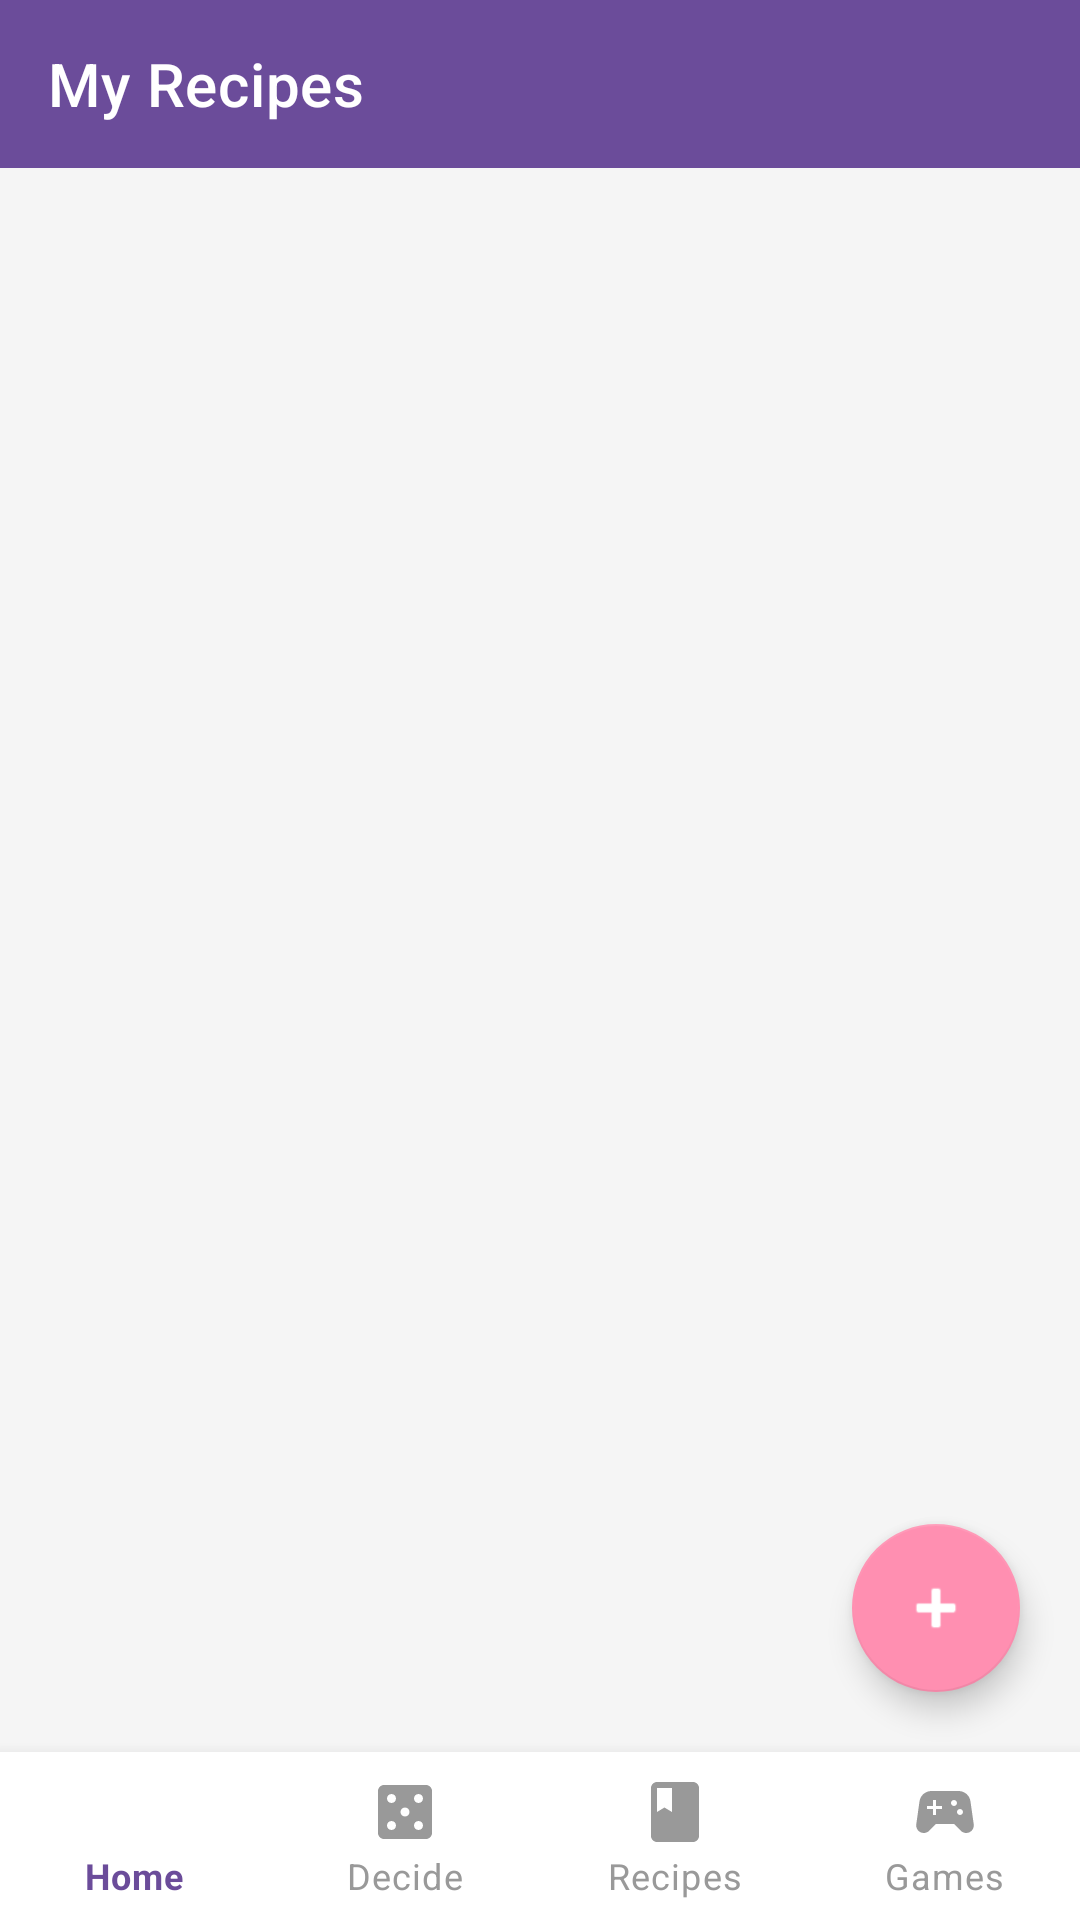

Locate icon controls on the screen. Image size 1080 x 1920, boxes as BBox(x1, y1, x2, y2).
Add Recipe: BBox(852, 1524, 1020, 1692)
